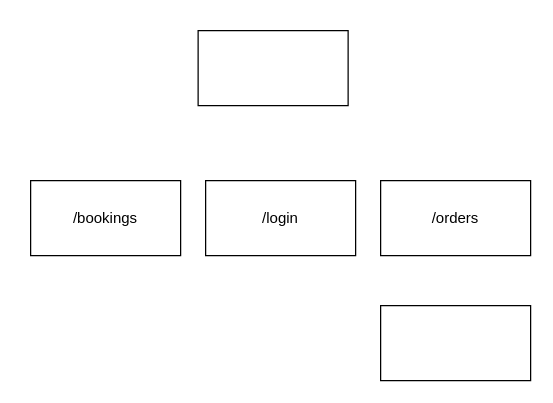
The diagram is 553 pixels wide and 403 high, and some of its shapes have lost their labels. The shapes that lost their labels are listed below. From the top down, each one's box as (x1, y1, x2, y2) in pixels, then its label:
(197, 29, 348, 106): Сотрудник
(379, 304, 531, 381): /orders/[id] (assigned)
